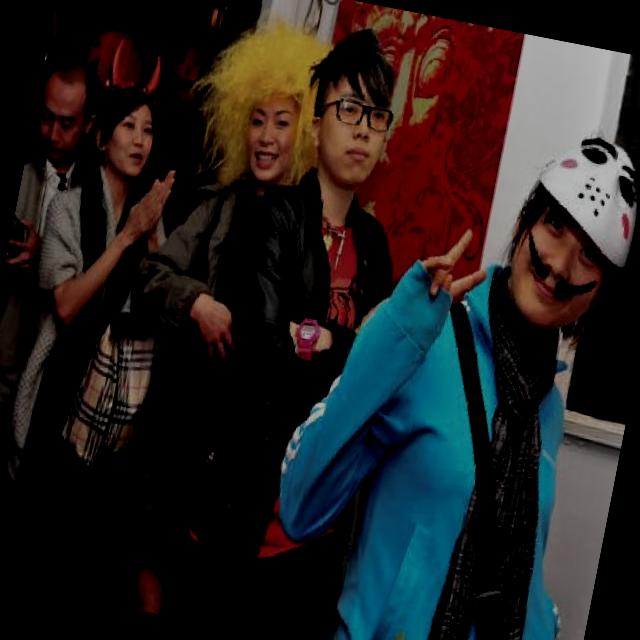Person: (248, 81, 640, 640), (173, 5, 456, 640), (68, 0, 350, 627), (0, 74, 194, 602), (0, 55, 115, 579)
